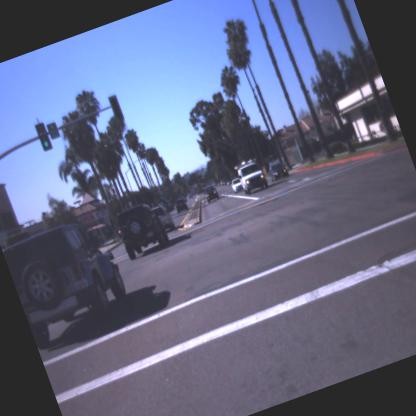trafficlight: (32, 121, 54, 154)
